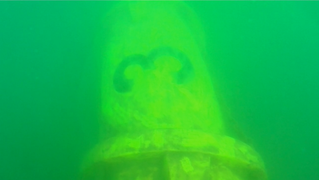3: (112, 46, 194, 93)
pipe: (78, 1, 269, 179)
